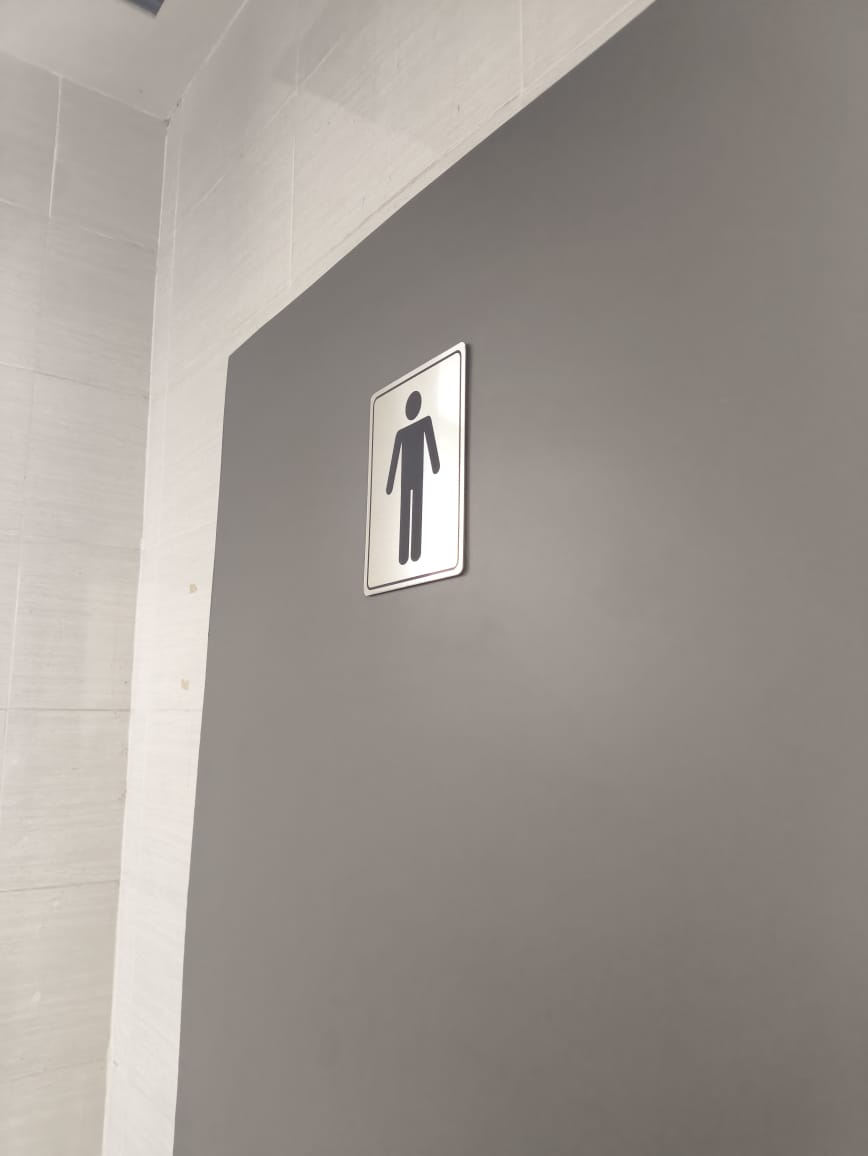toilet laki-laki: (352, 332, 477, 610)
